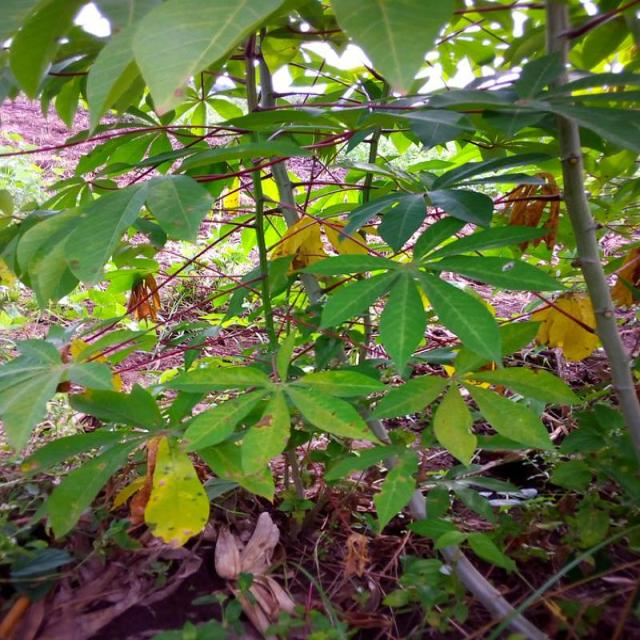cassava leaf: (143, 434, 210, 548)
